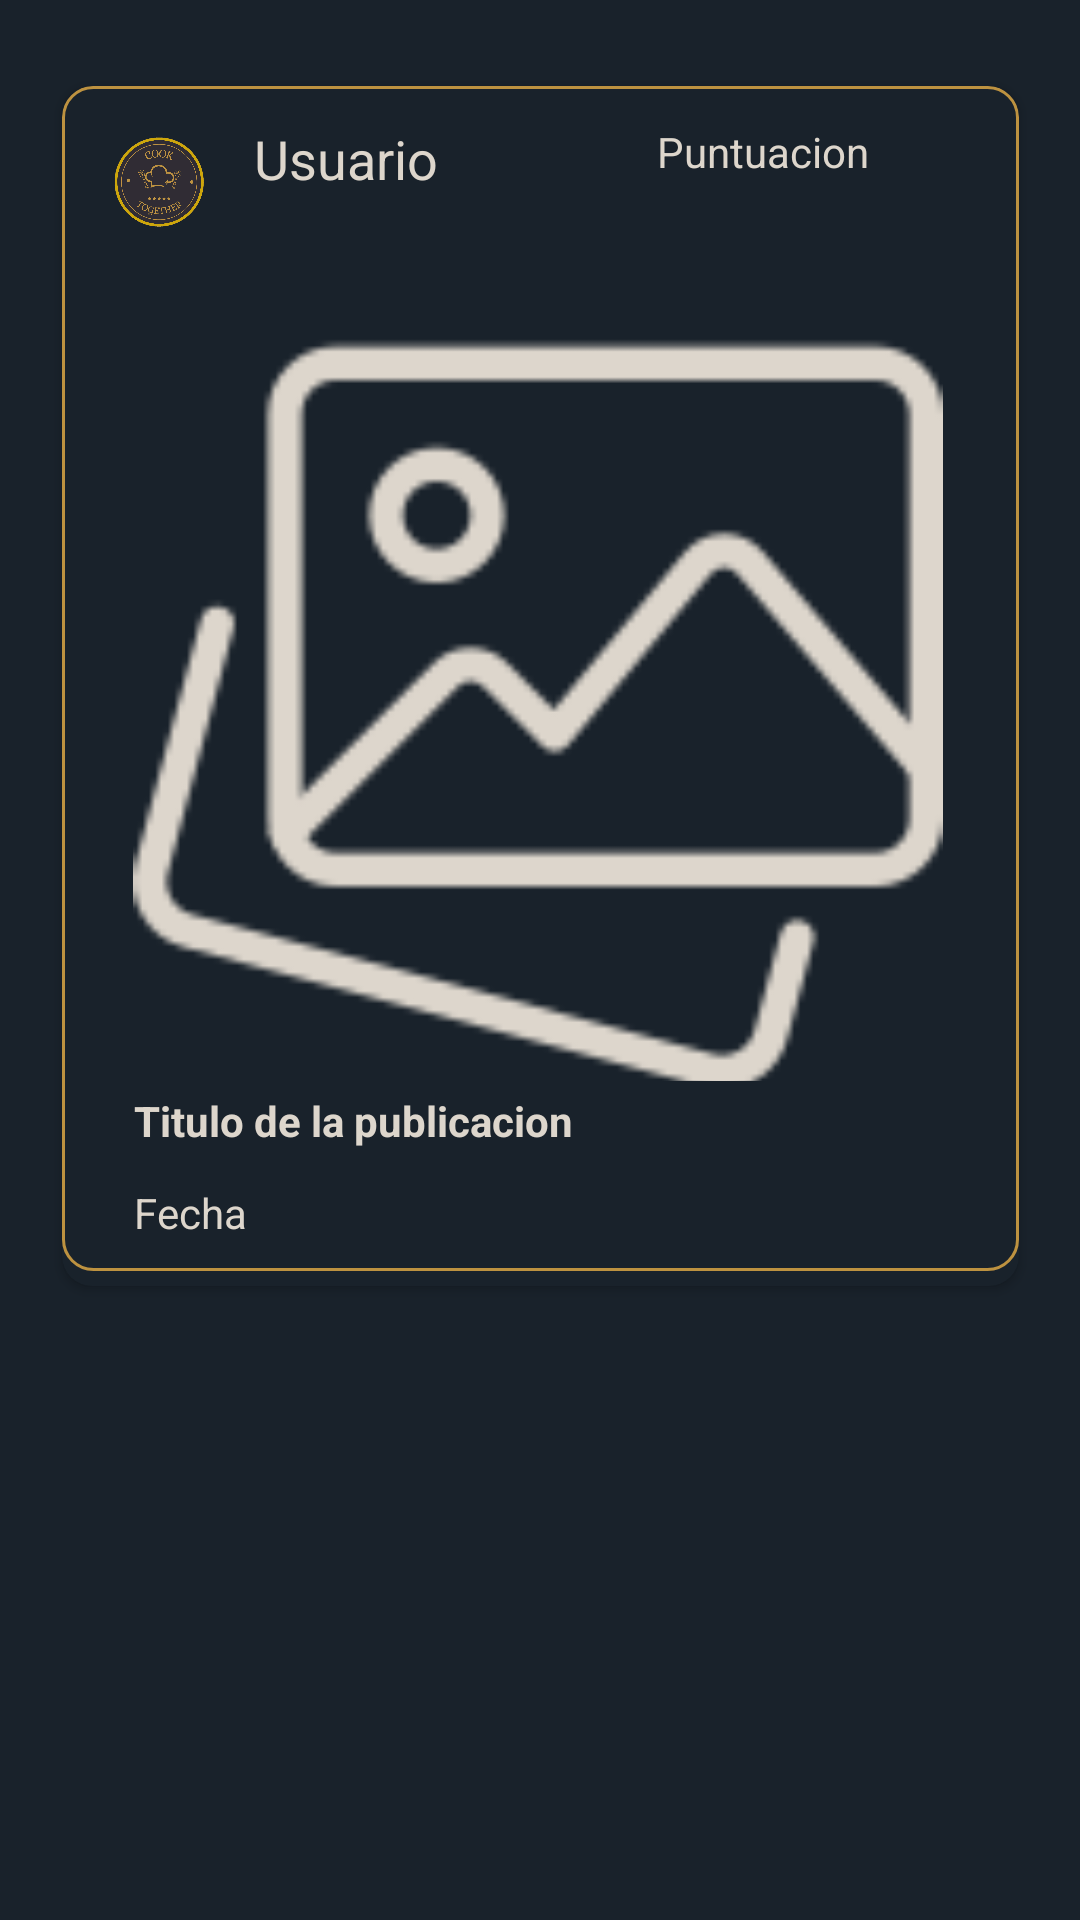

Named icons in this screenshot (1080w x 1920h) and their bounding boxes, (x1, y1, x2, y2):
defcookicon: (115, 137, 204, 227)
